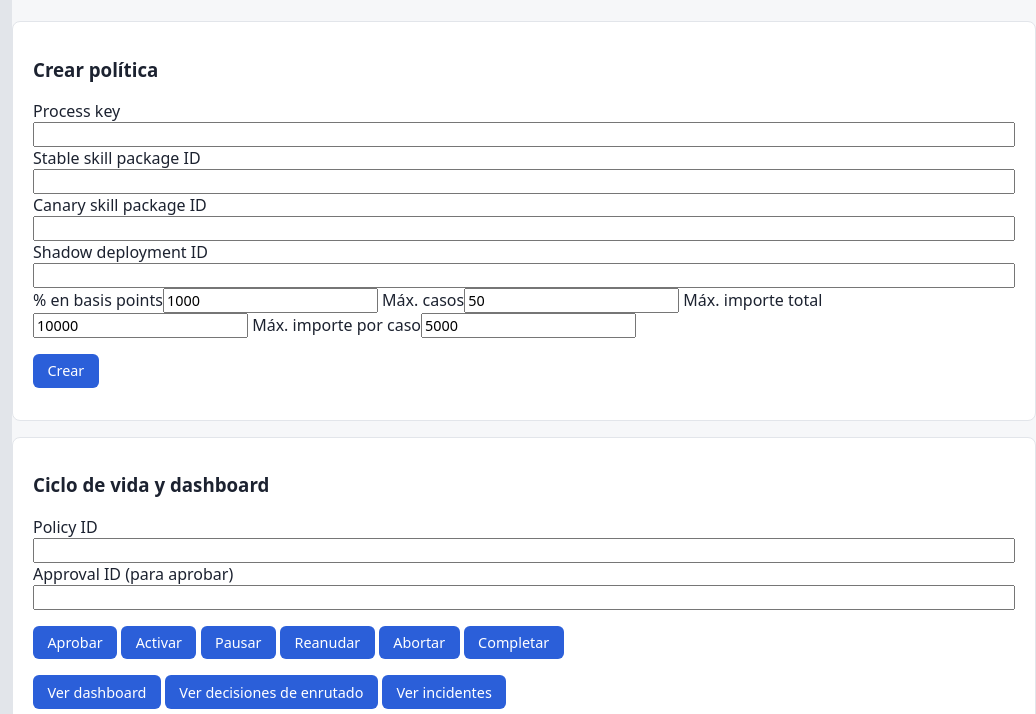
it: Canary › renders the `recommend` field as an advisory banner, not a clickable action
Note: 9th text input on the page is Policy ID (see Canary.tsx field order).
Type "canarypolicy_abc" into the field labelled "Policy ID" at (524, 551), box [33,538,1015,563]
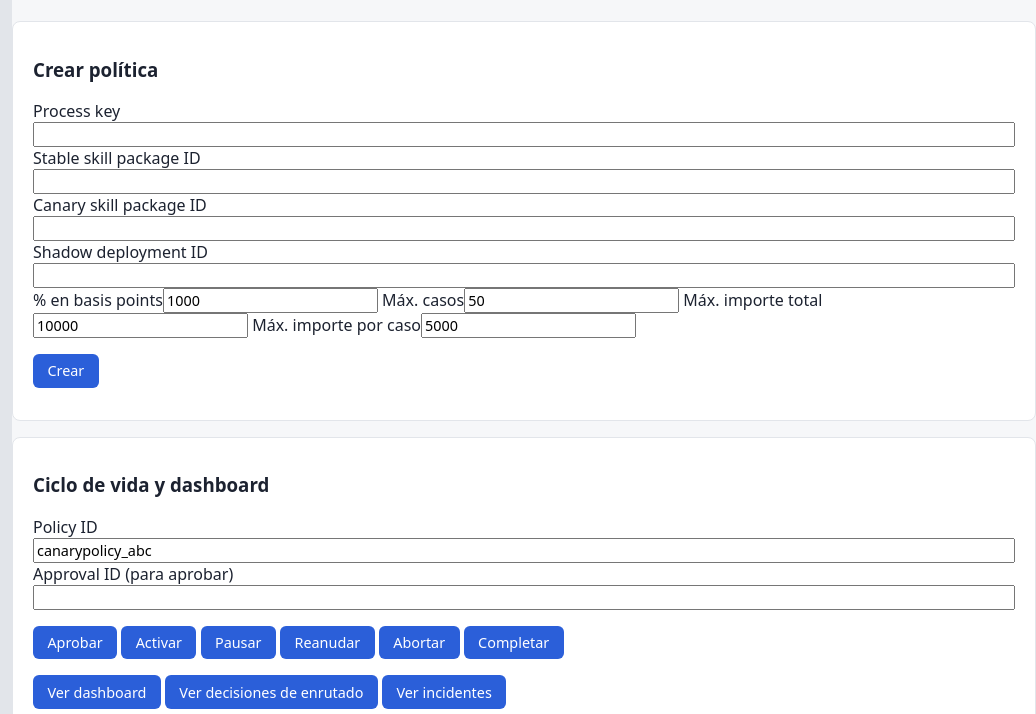
Click the button "Ver dashboard" at (97, 692), box [33,675,161,709]
(page scrolled)
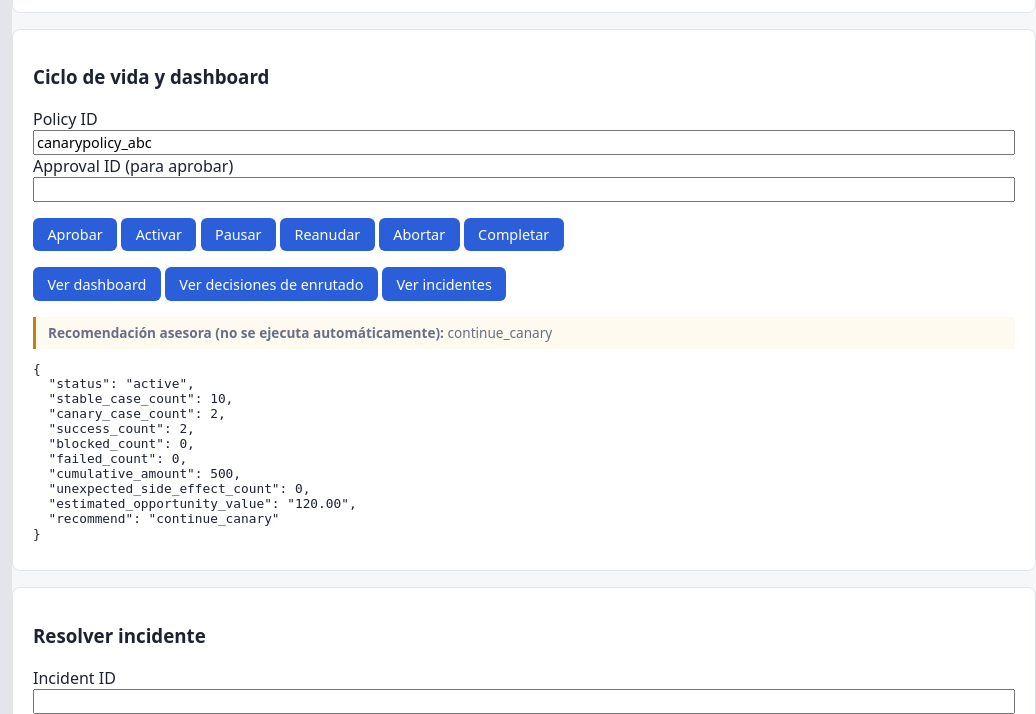
Result: the message "Recomendación asesora (no se ejecuta automáticamente): continue_canary" is shown at [33,317,1015,349]
Result: the message shows "Recomendación asesora" at [48,323,444,342]
Result: the message shows "continue_canary" at [448,323,552,342]
